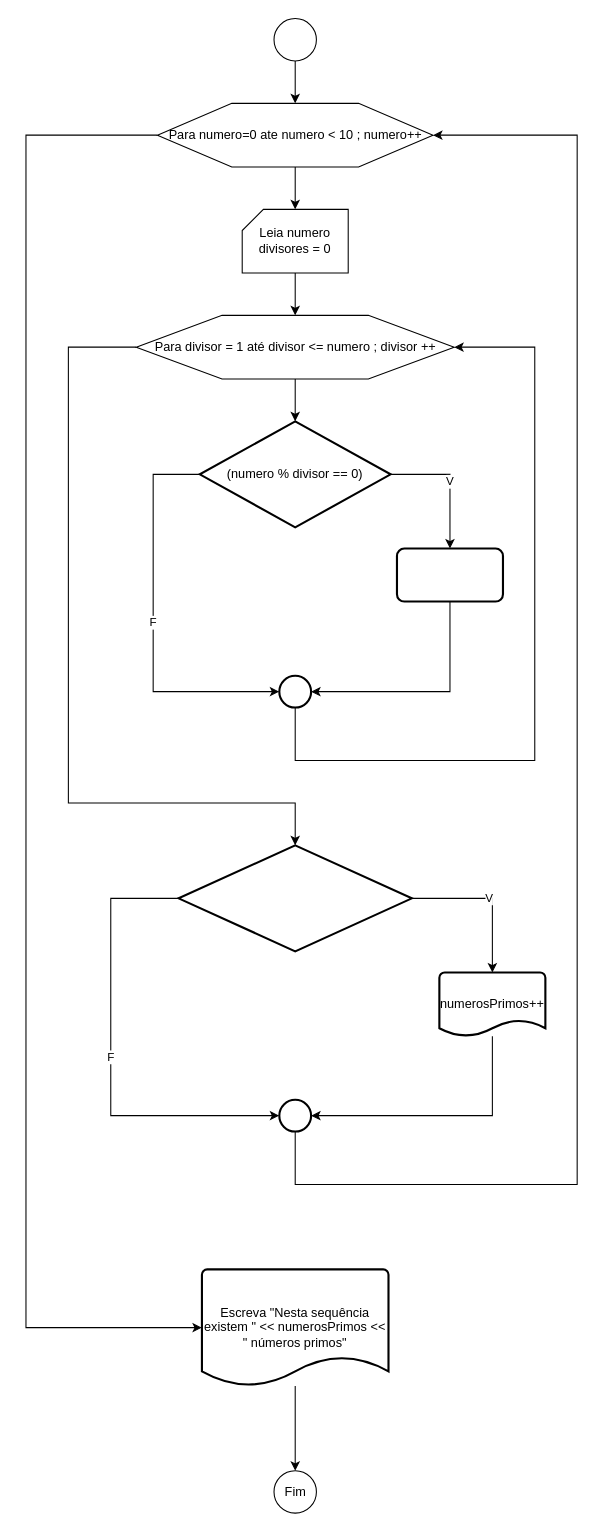
Some shapes in this 604 by 1532 pixel diagram are drawn without their labels. Here are the shapes that lost their labels. From the top down, the centre of each, then its label:
pixel 294 39: Início
pixel 449 574: divisores++
pixel 294 898: (divisores == 1 || divisores == 2)
